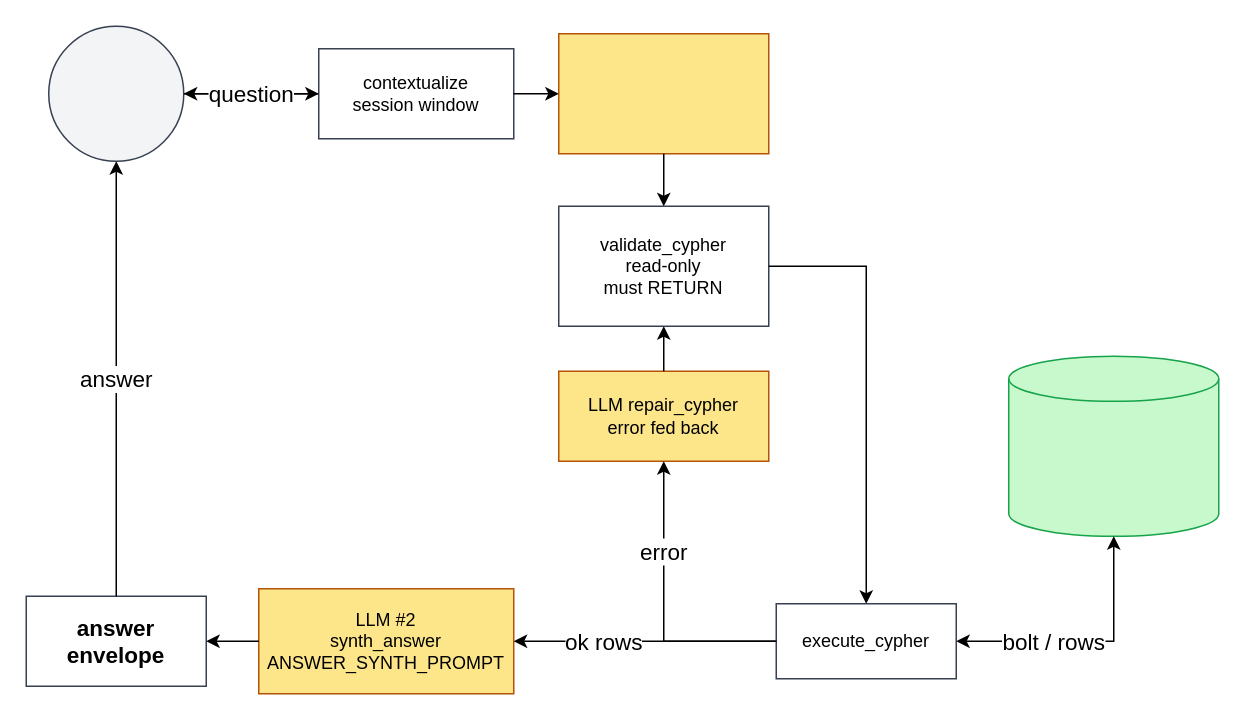
Some shapes in this 1245 by 720 pixel diagram are drawn without their labels. The centre of each missing label's shape, as x and y in pixels:
"LLM #1 gen_cypher graph schema" belongs at (663,93).
"Neo4j graph Camera / Event / CrowdHour / CrowdMinute / CrowdDay" belongs at (1113,445).
"👤 User" belongs at (115,93).
